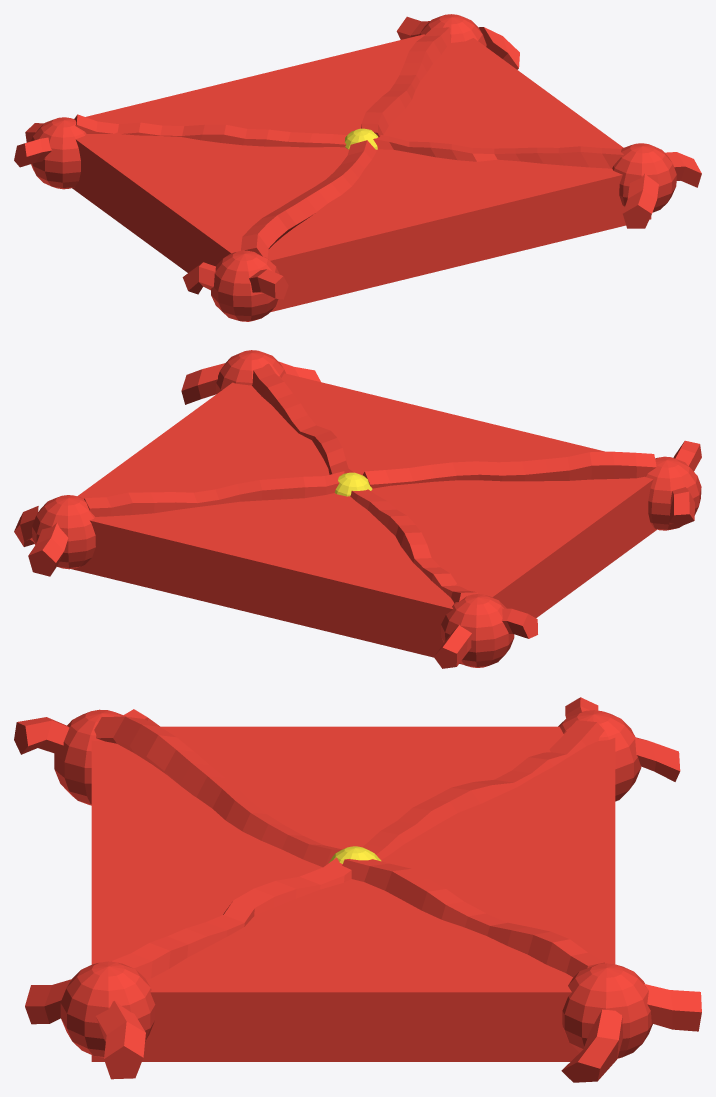
3 renders of one model, top to bottom at view 1: azimuth 30°, elevation 25°; view 2: azimuth 150°, elevation 25°; view 3: azimuth 270°, elevation 25°, orthographic. The views are drawn at different scales.
Parts seen in each view (by area): view 1: mesh_1128309215, group_470333196, group_624633683, group_450534900, mesh_1555232724, group_1579104096, mesh_1533634475, mesh_920512620, group_1994500814, mesh_448511991, group_726843894, group_724623591 (+3 smaller); view 2: mesh_1128309215, group_470333196, group_1579104096, mesh_1533634475, group_624633683, group_450534900, mesh_448511991, mesh_1555232724, mesh_920512620, group_6384952, group_1958079459, group_1830271789 (+5 smaller); view 3: mesh_1128309215, group_470333196, group_1579104096, group_450534900, group_624633683, mesh_448511991, mesh_920512620, mesh_1555232724, group_1958079459, group_724623591, mesh_1533634475, group_6384952 (+3 smaller).
Part boxes in pixels (x1,y1,x2,y2): mesh_1128309215: (72, 34, 651, 312); group_470333196: (241, 140, 376, 258); group_624633683: (74, 114, 346, 147); group_450534900: (373, 135, 623, 168); mesh_1555232724: (211, 250, 279, 321); group_1579104096: (361, 27, 450, 136); mesh_1533634475: (31, 117, 86, 189); mesh_920512620: (612, 143, 676, 212); group_1994500814: (622, 173, 658, 228); mesh_448511991: (419, 14, 486, 46); group_726843894: (249, 269, 288, 299); group_724623591: (478, 27, 519, 69); mesh_1128309215: (71, 373, 656, 664); group_470333196: (363, 451, 656, 488); group_1579104096: (84, 471, 344, 516); mesh_1533634475: (441, 594, 514, 667); group_624633683: (350, 489, 477, 602); group_450534900: (252, 363, 353, 474); mesh_448511991: (32, 495, 95, 569); mesh_1555232724: (645, 456, 701, 530); mesh_920512620: (216, 350, 285, 393); group_6384952: (28, 523, 68, 576); group_1958079459: (181, 363, 225, 404); group_1830271789: (434, 625, 471, 668); mesh_1128309215: (91, 726, 615, 1061); group_470333196: (94, 716, 342, 867); group_1579104096: (342, 859, 604, 977); group_450534900: (111, 857, 351, 980); group_624633683: (362, 720, 604, 859); mesh_448511991: (562, 963, 652, 1058); mesh_920512620: (60, 961, 155, 1057); mesh_1555232724: (54, 709, 126, 805); group_1958079459: (95, 1001, 145, 1079); group_724623591: (561, 1009, 622, 1082); mesh_1533634475: (558, 710, 641, 801); group_6384952: (644, 984, 701, 1031).
Bounding box in the file's own units: 114 × 16.18 × 98.55.
